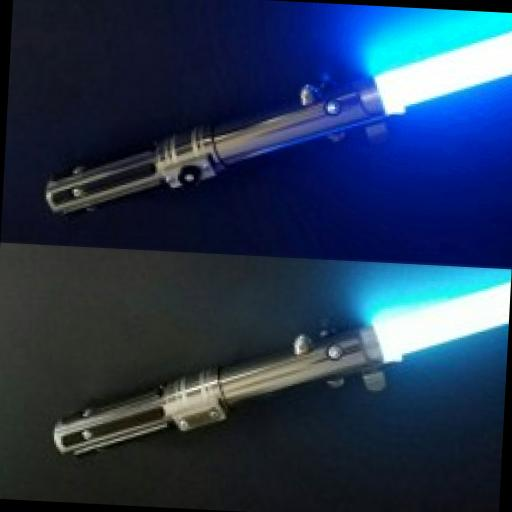lightsaber: (43, 0, 512, 241), (50, 260, 510, 478)
